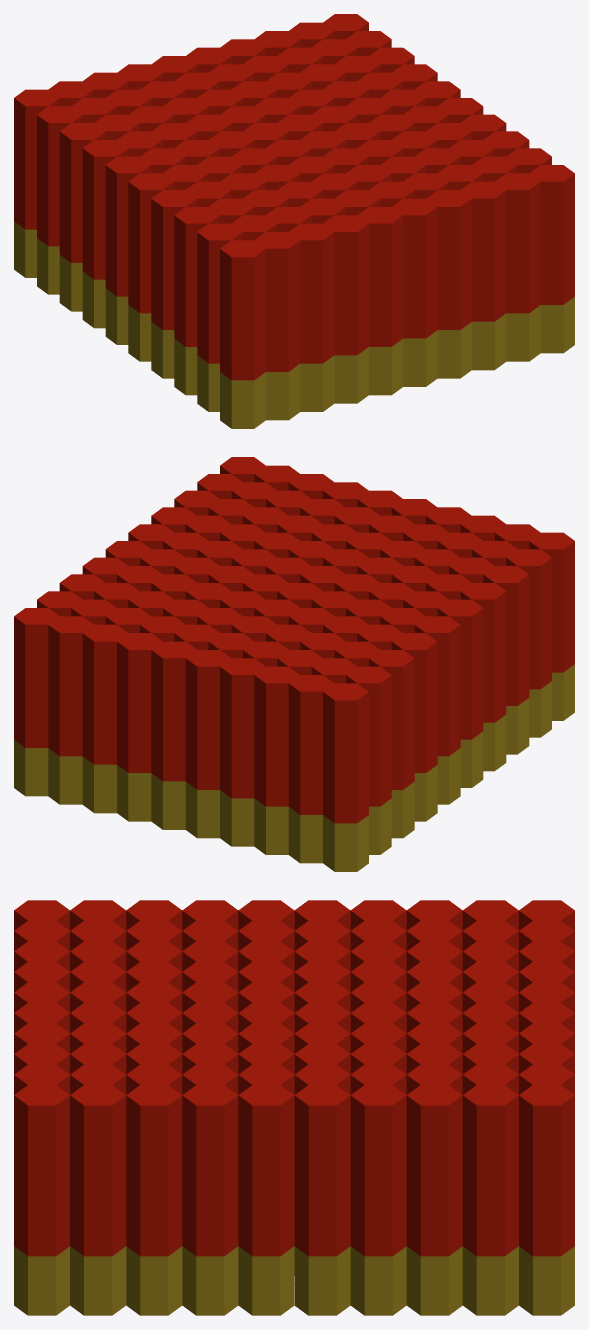
The model's file is shotgun_bullet_stack.fbx.
3 views of the same model, one above another, from view 1: azimuth 30°, elevation 25°; view 2: azimuth 150°, elevation 25°; view 3: azimuth 270°, elevation 25° (orthographic). The views are drawn at different scales.
Visible parts, largest first — view 1: SPAS-12_Shell; view 2: SPAS-12_Shell; view 3: SPAS-12_Shell.
Part boxes in pixels (<box>): SPAS-12_Shell: <box>14,14,574,428</box>; SPAS-12_Shell: <box>14,457,574,871</box>; SPAS-12_Shell: <box>14,900,574,1315</box>.
Size of the model in its own units: 14.13 by 6.75 by 16.31.
